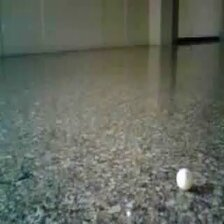w: (175, 168, 194, 190)
